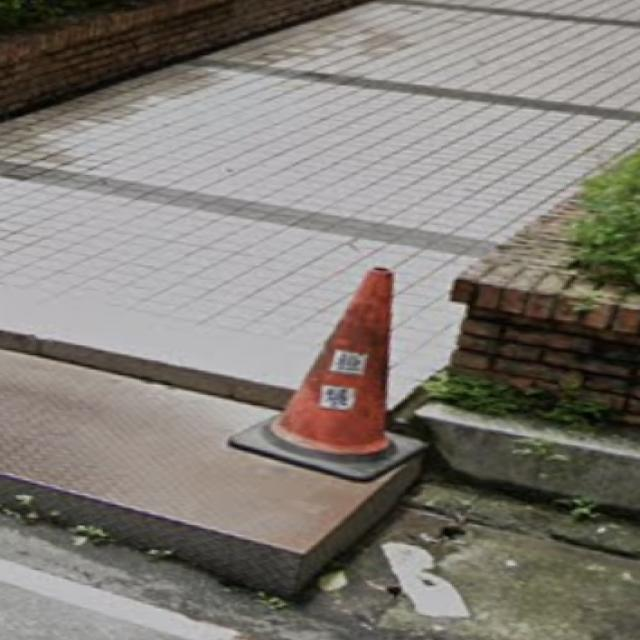cone: (273, 253, 405, 468)
